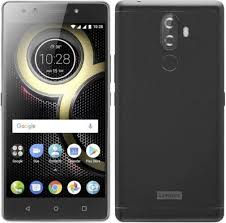lenovo: (115, 1, 226, 223), (1, 1, 110, 222)
